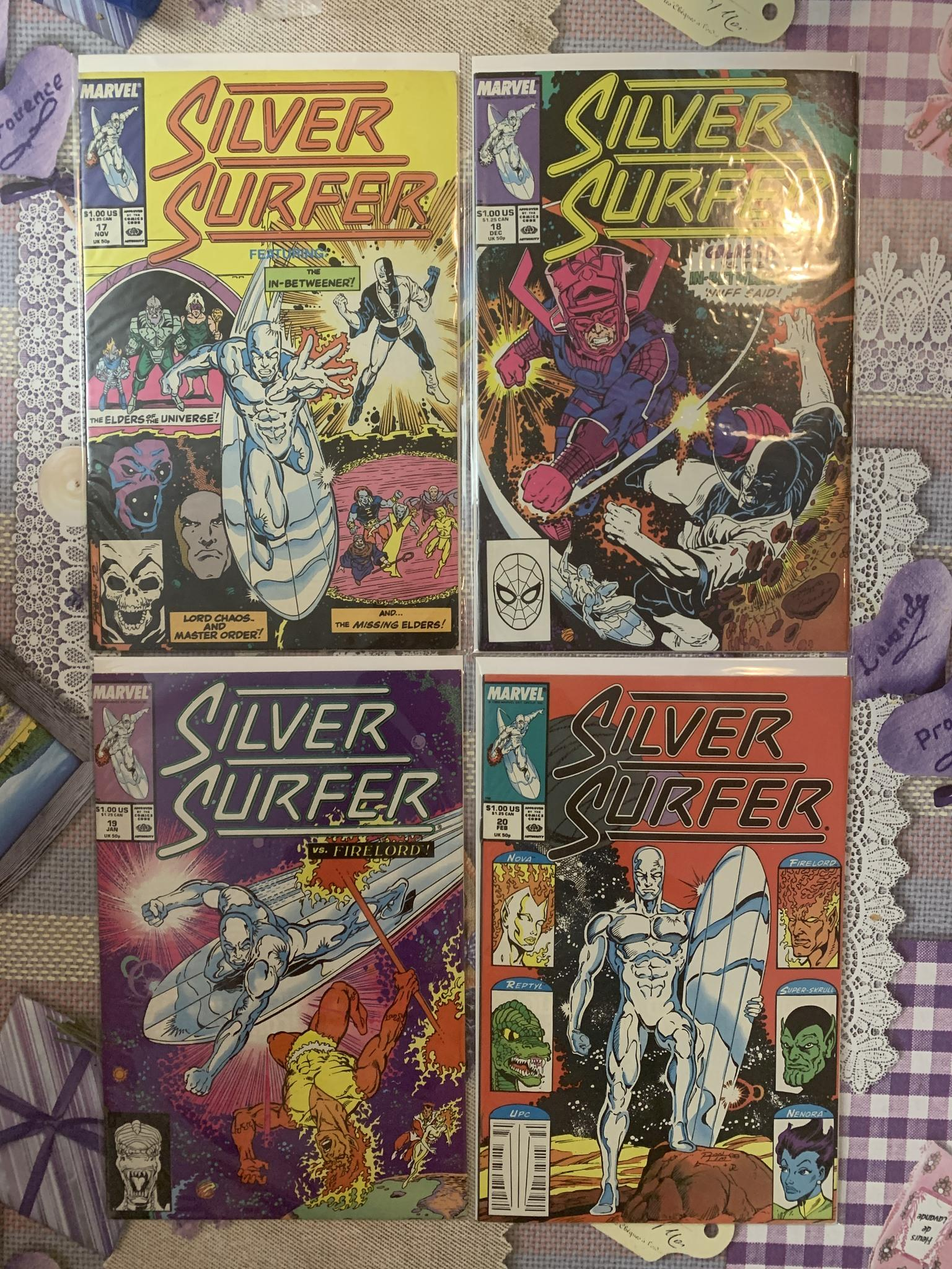comic: (78, 52, 465, 654), (473, 54, 858, 652), (92, 655, 466, 1222), (476, 657, 849, 1223)
